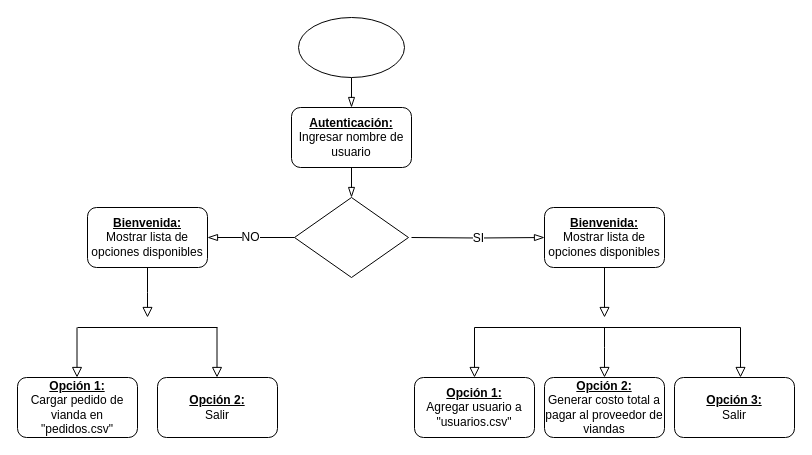
The diagram is 812 pixels wide and 455 high, and some of its shapes have lost their labels. Here are the shapes that lost their labels. From the top down, the centre of each, then its label:
pixel 351 47: INICIO
pixel 351 237: ¿El usuario es "administrador"?
